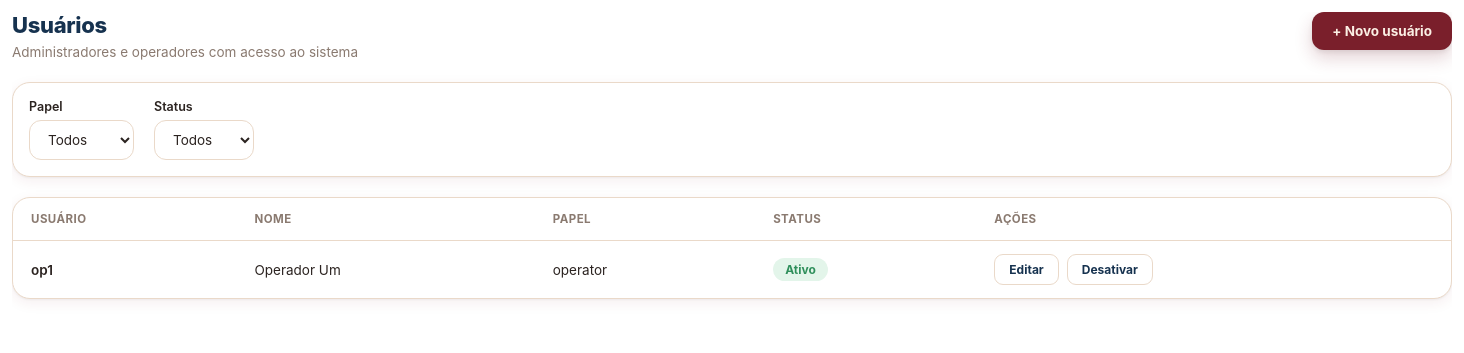
Test: UsersListScreen › mostra erro inline quando desativar/reativar falha
Check: the text "op1" is shown, box [13,241,236,298]
Click the button with test id "deactivate-user-1".
click(1110, 270)  # box [1067,254,1153,285]
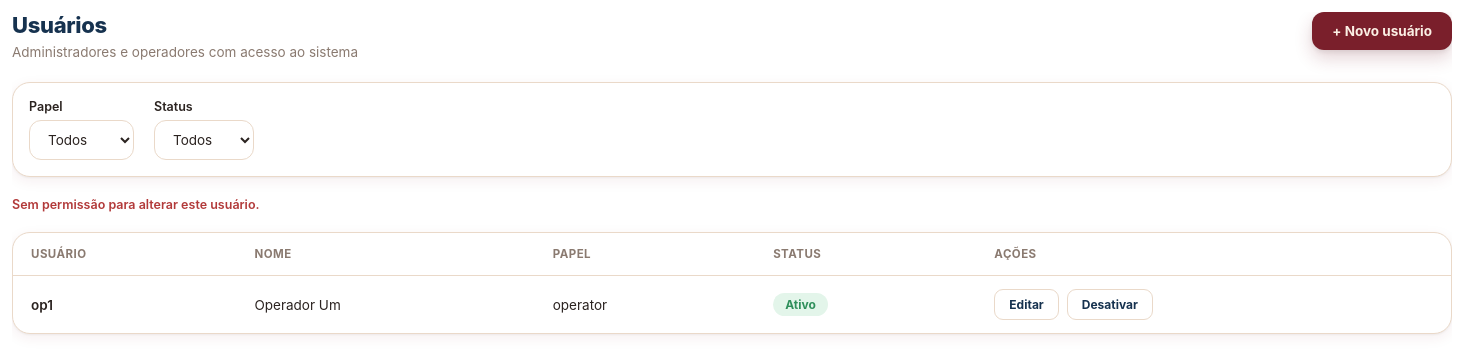
Check: the text "Sem permissão para alterar este usuário." is shown, box [12,197,260,212]
